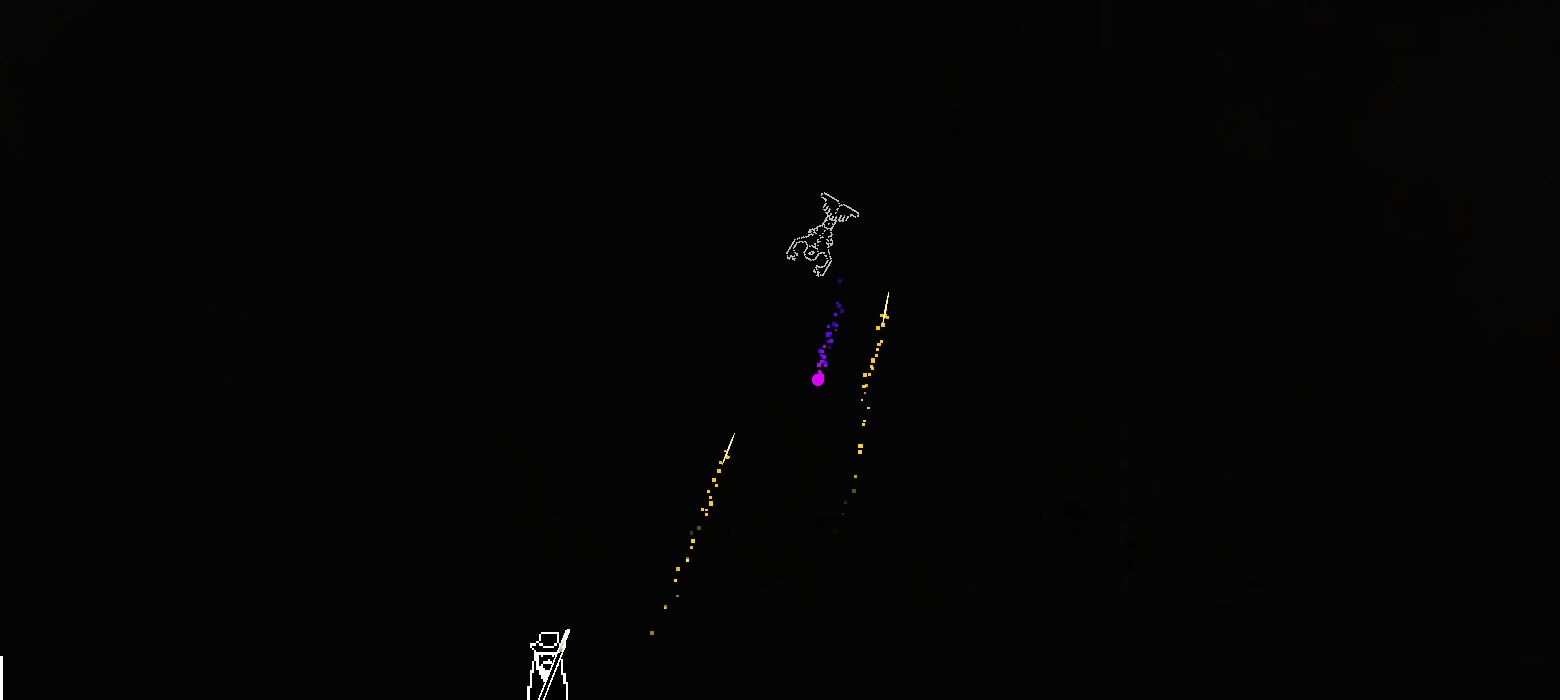enemy: (786, 192, 859, 277)
